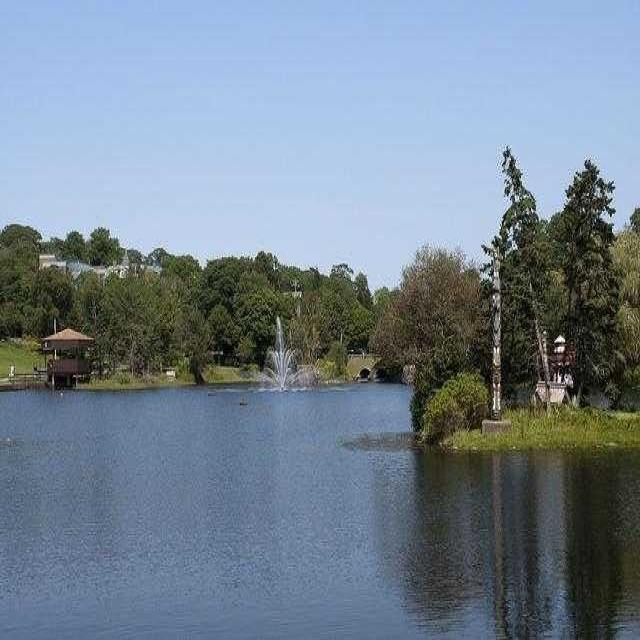Ponds: (3, 386, 640, 640)
